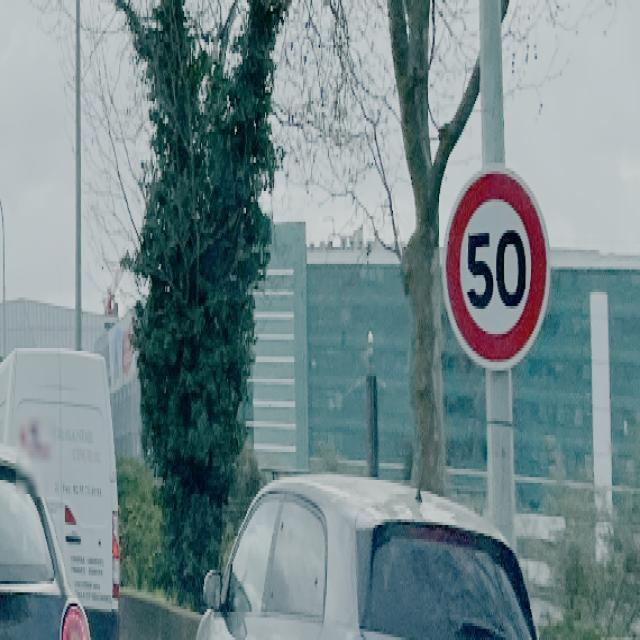speed_50: (442, 161, 553, 377)
